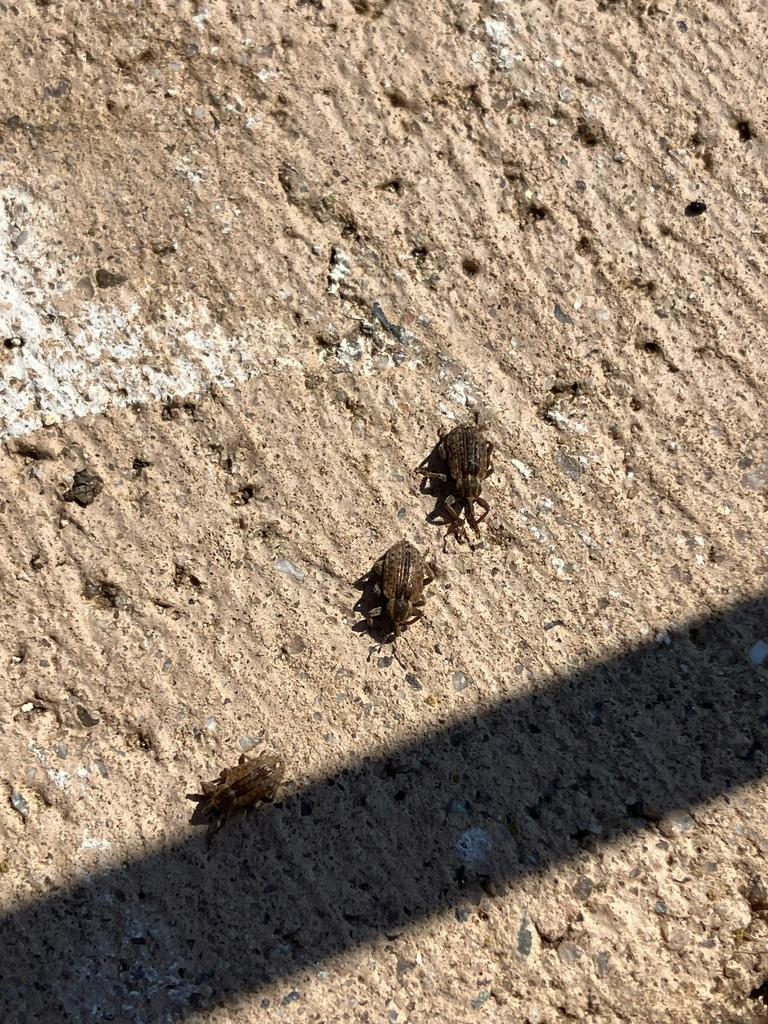weevils: (397, 374, 530, 566), (321, 516, 461, 659), (171, 730, 317, 857)
